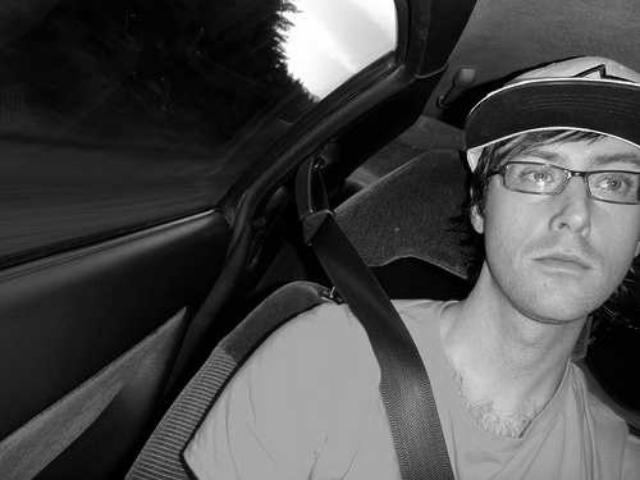Seatbelt: (296, 208, 462, 480)
